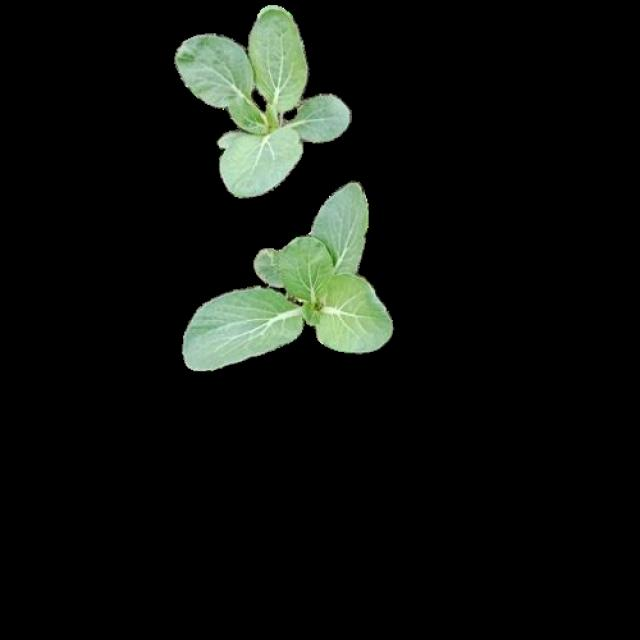healthy: (179, 175, 389, 369), (173, 7, 348, 195)
not-mature: (182, 178, 392, 371), (175, 9, 351, 197)
